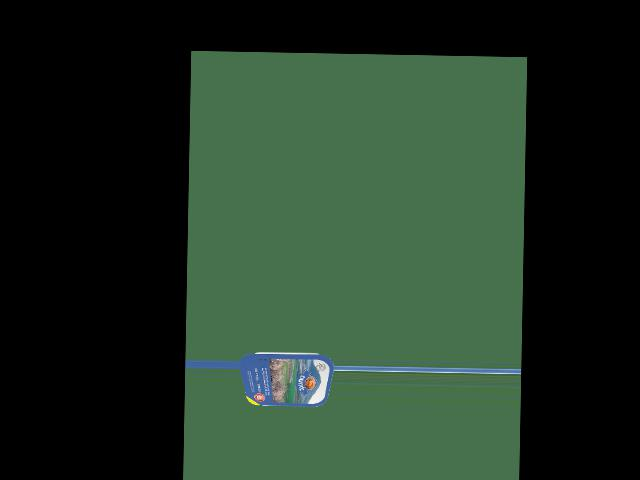cheese: (248, 345, 327, 409)
